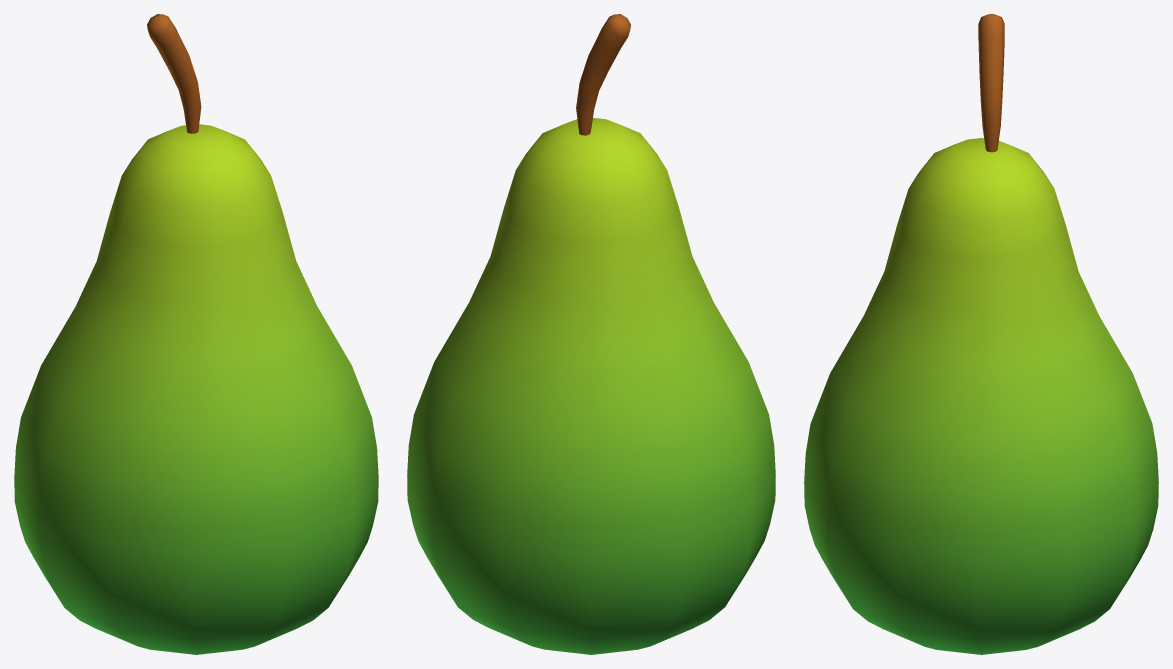
File: Pear.fbx
The picture shows the model from 3 angles, left to right: view 1: azimuth 30°, elevation 25°; view 2: azimuth 150°, elevation 25°; view 3: azimuth 270°, elevation 25°; orthographic projection. The views are drawn at different scales.
Visible parts, largest first — view 1: Pear; view 2: Pear; view 3: Pear.
Part boxes in pixels (bbox=[...]): Pear: bbox=[14, 14, 378, 654]; Pear: bbox=[407, 14, 775, 654]; Pear: bbox=[804, 14, 1158, 654].
Size of the model in its own units: 1.95 by 3.65 by 1.95.
1 material, 1 textured.
